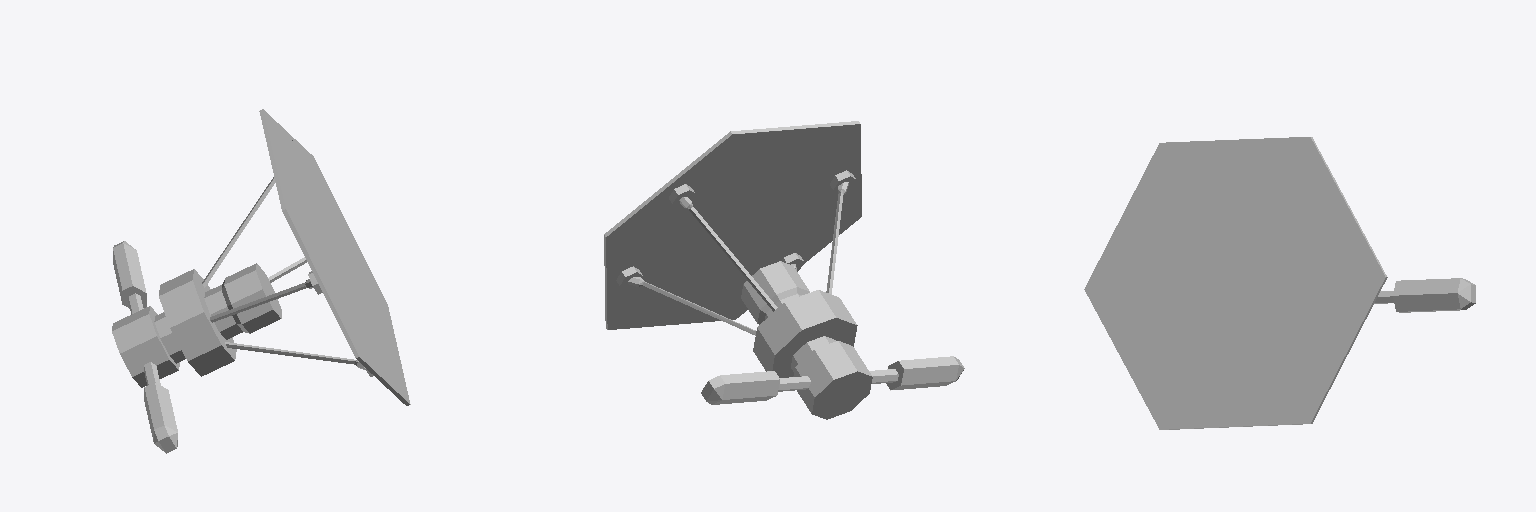
File: stg300_MotReflector_p3_16.obj
3 views of the same model, side by side, from view 1: azimuth 30°, elevation 25°; view 2: azimuth 150°, elevation 25°; view 3: azimuth 270°, elevation 25° (orthographic).
Parts seen in each view (by area): view 1: polygon3, polygon2, polygon1, polygon0; view 2: polygon2, polygon3, polygon1, polygon0; view 3: polygon3, polygon2, polygon1.
Boxes of the visible parts, <box> form: polygon3: <box>267,117,406,396</box>; polygon2: <box>159,109,410,405</box>; polygon1: <box>112,241,281,452</box>; polygon0: <box>113,241,176,453</box>; polygon2: <box>604,121,861,377</box>; polygon3: <box>623,137,844,317</box>; polygon1: <box>706,261,964,419</box>; polygon0: <box>701,356,963,400</box>; polygon3: <box>1092,144,1377,422</box>; polygon2: <box>1084,137,1387,429</box>; polygon1: <box>1374,278,1470,311</box>.
Size of the model in its own units: 293 by 248 by 337.